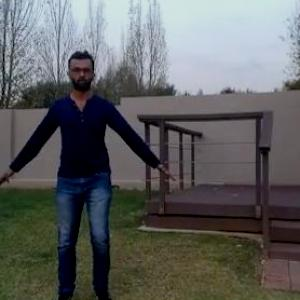land: (1, 51, 182, 299)
